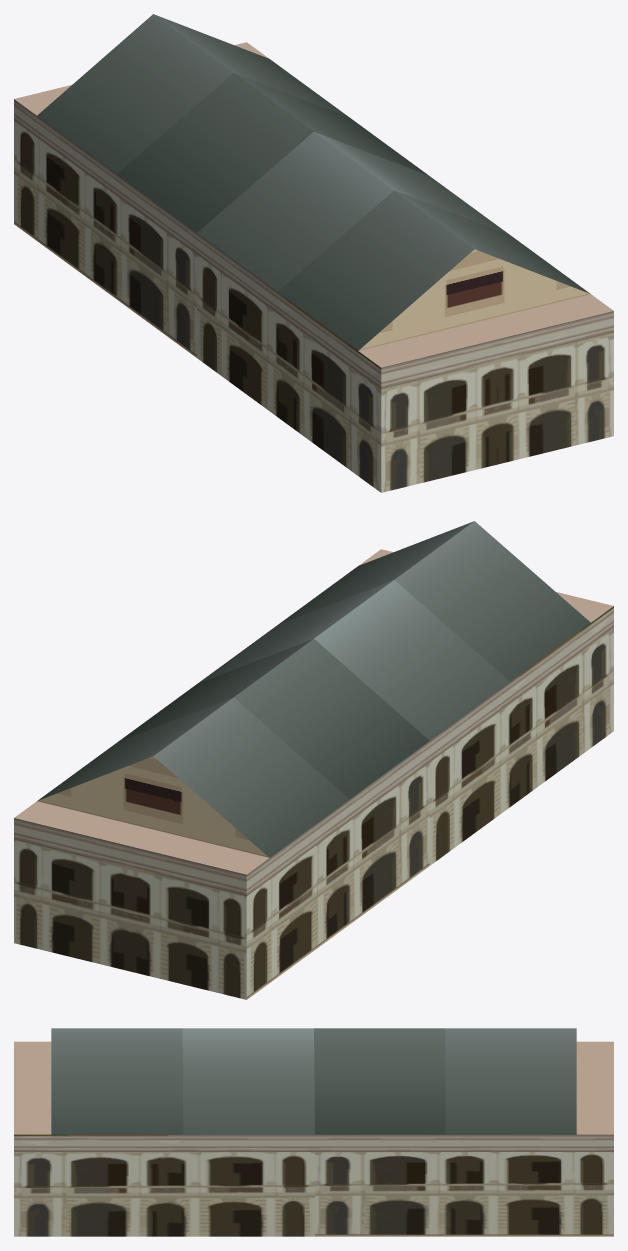
File: SM_Building_MayorOffice_01.fbx
The picture shows the model from 3 angles, top to bottom: view 1: azimuth 30°, elevation 25°; view 2: azimuth 150°, elevation 25°; view 3: azimuth 270°, elevation 25°; orthographic projection. The views are drawn at different scales.
Parts seen in each view (by area): view 1: SM_Building_MayorOffice_01; view 2: SM_Building_MayorOffice_01; view 3: SM_Building_MayorOffice_01.
Boxes of the visible parts, bbox=[...] form: SM_Building_MayorOffice_01: bbox=[14, 14, 613, 492]; SM_Building_MayorOffice_01: bbox=[14, 521, 613, 999]; SM_Building_MayorOffice_01: bbox=[14, 1028, 613, 1236].
Bounding box in the file's own units: 10.81 × 8.81 × 29.53.
